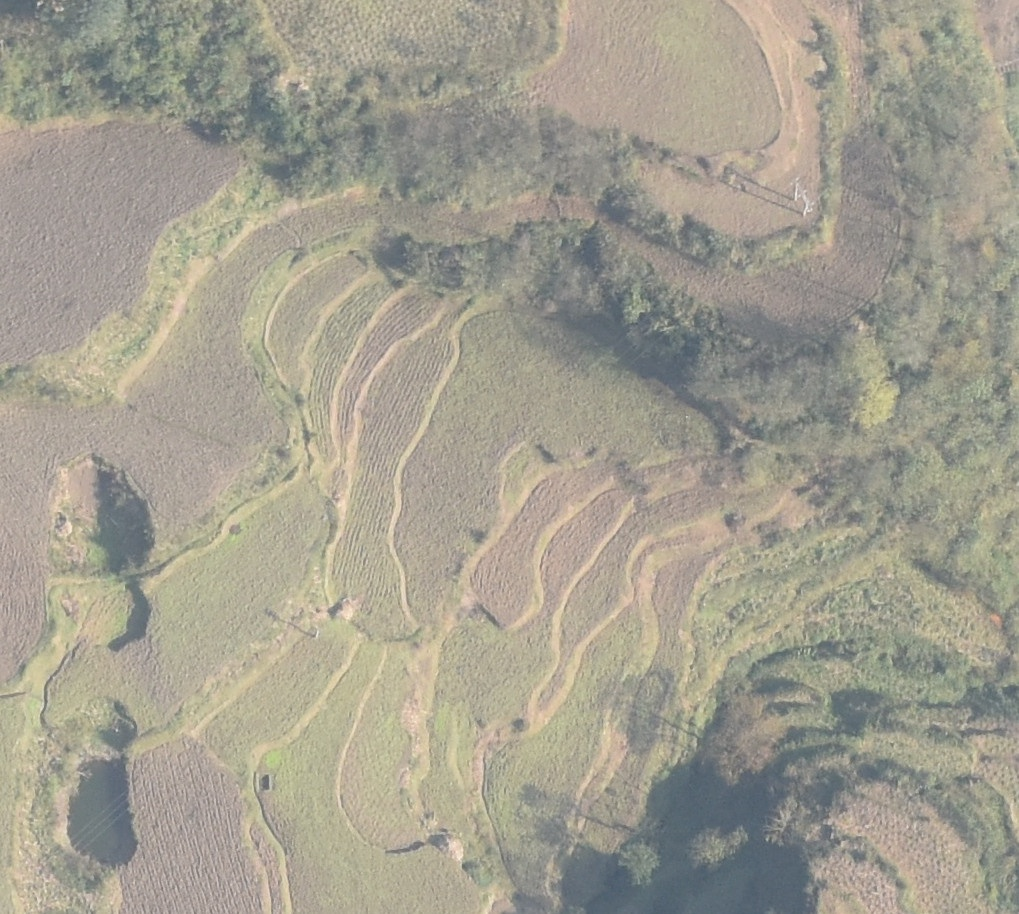cable-tower: (790, 177, 815, 219), (308, 623, 323, 638)
